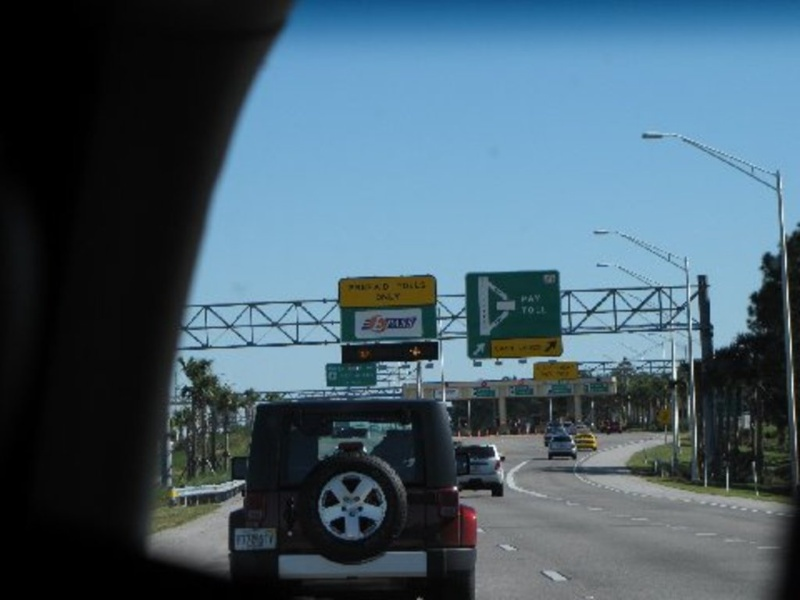pay_toll: (463, 274, 571, 341)
